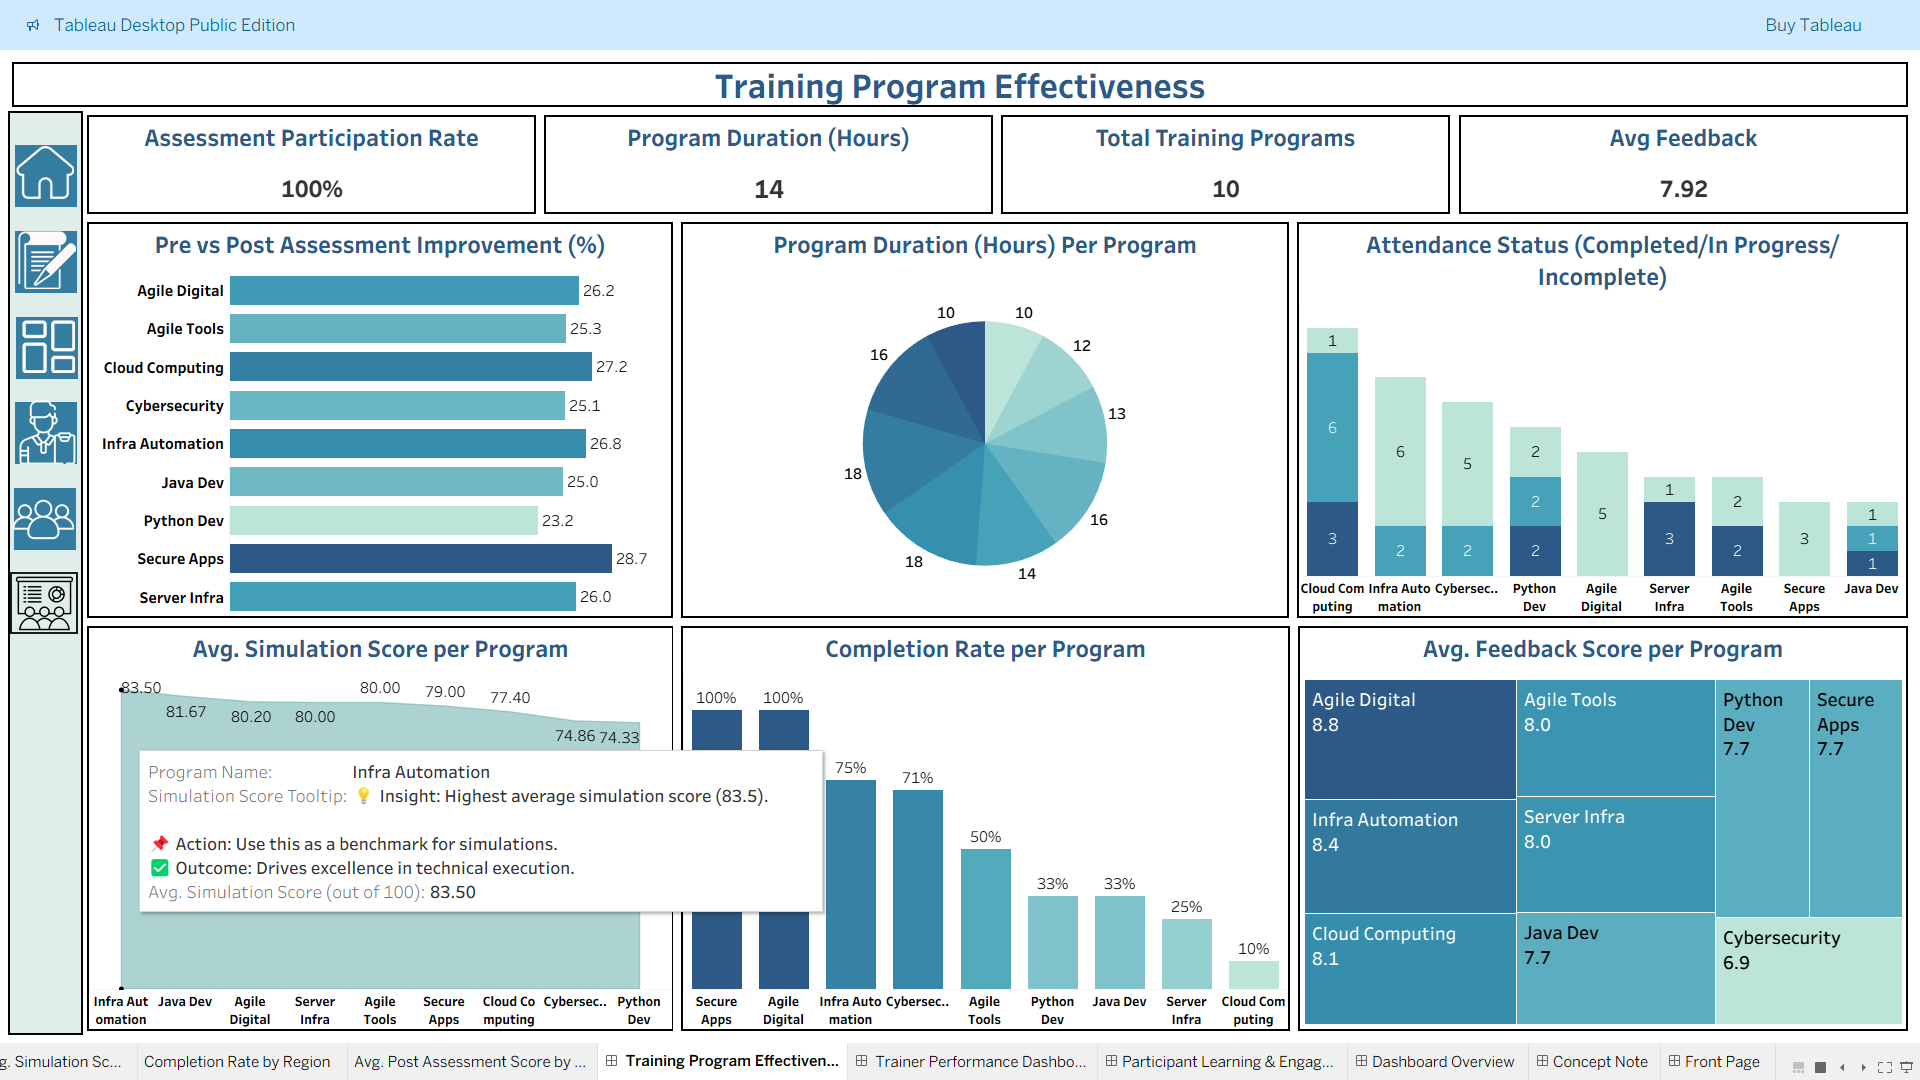

Layout of this report page (visuals, bound fields, positions):
{"tool":"tableau","page":{"name":" Training Program Effectiveness","canvas":[1000,1000],"units":"permille","ordinal":1},"visuals":[{"type":"title","box":[4.8,10,990.3,66.2]},{"type":"worksheet","title":"Assessment Participation Rate","mark":"Automatic","box":[43.7,76.2,237.9,105.9]},{"type":"worksheet","title":"Program Duration (Hours)","mark":"Automatic","box":[281.6,76.2,237.9,105.9]},{"type":"worksheet","title":"Total Training Programs","mark":"Automatic","box":[519.4,76.2,237.9,105.9]},{"type":"worksheet","title":"Avg Feedback","mark":"Automatic","box":[757.3,76.2,237.9,105.9]},{"type":"image","param":"Image/Untitled design.jpg","box":[7.7,96.1,32.4,62.4]},{"type":"worksheet","title":"Pre vs Post Assessment Improvement (%)","mark":"Automatic","rows":["Program_Name"],"cols":["Calculation_1120833389332942849"],"box":[43.7,182.1,309.1,399.4]},{"type":"worksheet","title":"Program Duration (Hours) Per Program","mark":"Pie","box":[352.8,182.1,320.4,399.4]},{"type":"worksheet","title":"Attendance Status (Completed/In Progress/Incomplete)","mark":"Automatic","rows":["Participant_ID (Assessment Results)"],"cols":["Program_Name"],"box":[673.2,182.1,322,399.4]},{"type":"dashboard-object","box":[7.1,182.3,34.2,58.7]},{"type":"image","param":"Image/Untitled design.jpg","box":[7.7,182.3,32.4,62.4]},{"type":"image","param":"Image/Untitled design.jpg","box":[8.2,268.4,32.4,62.4]},{"type":"dashboard-object","box":[5.3,272.2,39.5,53.7]},{"type":"dashboard-object","box":[7.1,352.1,34.8,64.9]},{"type":"image","param":"Image/Untitled design.jpg","box":[7.7,354.6,32.4,62.4]},{"type":"dashboard-object","box":[6.5,440.7,32.4,62.4]},{"type":"image","param":"Image/Untitled design.jpg","box":[7.1,440.7,32.4,62.4]},{"type":"dashboard-object","box":[5.3,525.6,35.4,62.4]},{"type":"worksheet","title":"Avg. Simulation Score per Program","mark":"Area","rows":["Simulation_Score (out of 100)"],"cols":["Program_Name"],"box":[43.7,581.5,309.3,408.6]},{"type":"worksheet","title":"Completion Rate per Program","mark":"Automatic","rows":["Calculation_918171406107533313"],"cols":["Program_Name"],"box":[353,581.5,320.9,408.6]},{"type":"worksheet","title":"Avg. Feedback Score per Program","mark":"Automatic","box":[673.9,581.5,321.3,408.6]}]}

Visuals, with their boxes on the dashboard's canvas, which has no fixed pixel size, in thousandths of its width and height (x1, y1, x2, y2). These are canvas units, not pixel positions in the 1920x1080 screenshot, which may show the page scaled, cropped or inside an application window:
title: 5, 10, 995, 76
"Assessment Participation Rate" worksheet: 44, 76, 282, 182
"Program Duration (Hours)" worksheet: 282, 76, 520, 182
"Total Training Programs" worksheet: 519, 76, 757, 182
"Avg Feedback" worksheet: 757, 76, 995, 182
image: 8, 96, 40, 158
"Pre vs Post Assessment Improvement (%)" worksheet: 44, 182, 353, 582
"Program Duration (Hours) Per Program" worksheet (Pie marks): 353, 182, 673, 582
"Attendance Status (Completed/In Progress/Incomplete)" worksheet: 673, 182, 995, 582
dashboard-object: 7, 182, 41, 241
image: 8, 182, 40, 245
image: 8, 268, 41, 331
dashboard-object: 5, 272, 45, 326
dashboard-object: 7, 352, 42, 417
image: 8, 355, 40, 417
dashboard-object: 6, 441, 39, 503
image: 7, 441, 40, 503
dashboard-object: 5, 526, 41, 588
"Avg. Simulation Score per Program" worksheet (Area marks): 44, 582, 353, 990
"Completion Rate per Program" worksheet: 353, 582, 674, 990
"Avg. Feedback Score per Program" worksheet: 674, 582, 995, 990
